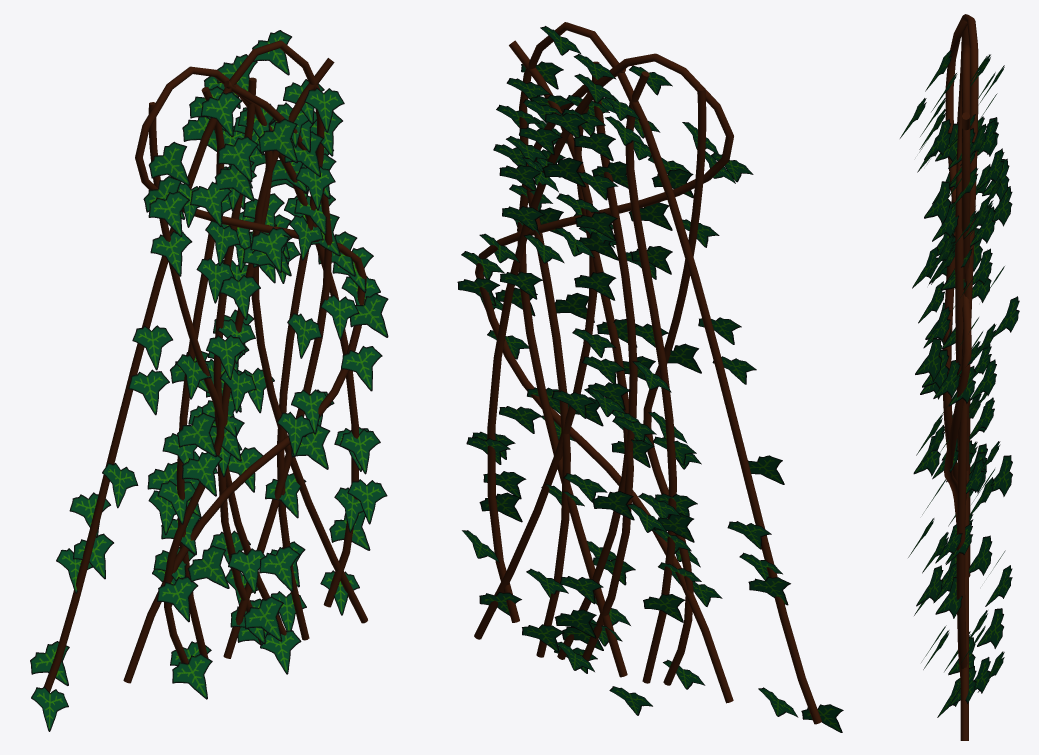
Rendered from wall ivy 1.fbx.
3 renders of one model, left to right at view 1: azimuth 30°, elevation 25°; view 2: azimuth 150°, elevation 25°; view 3: azimuth 270°, elevation 25°, orthographic. The views are drawn at different scales.
Visible parts, largest first — view 1: ivy 1; view 2: ivy 1; view 3: ivy 1.
Boxes of the visible parts, x1,y1,x2,y2 form: ivy 1: [30, 30, 388, 731]; ivy 1: [457, 22, 843, 732]; ivy 1: [900, 14, 1019, 740].
Bounding box in the file's own units: 1116 × 1805 × 300.
